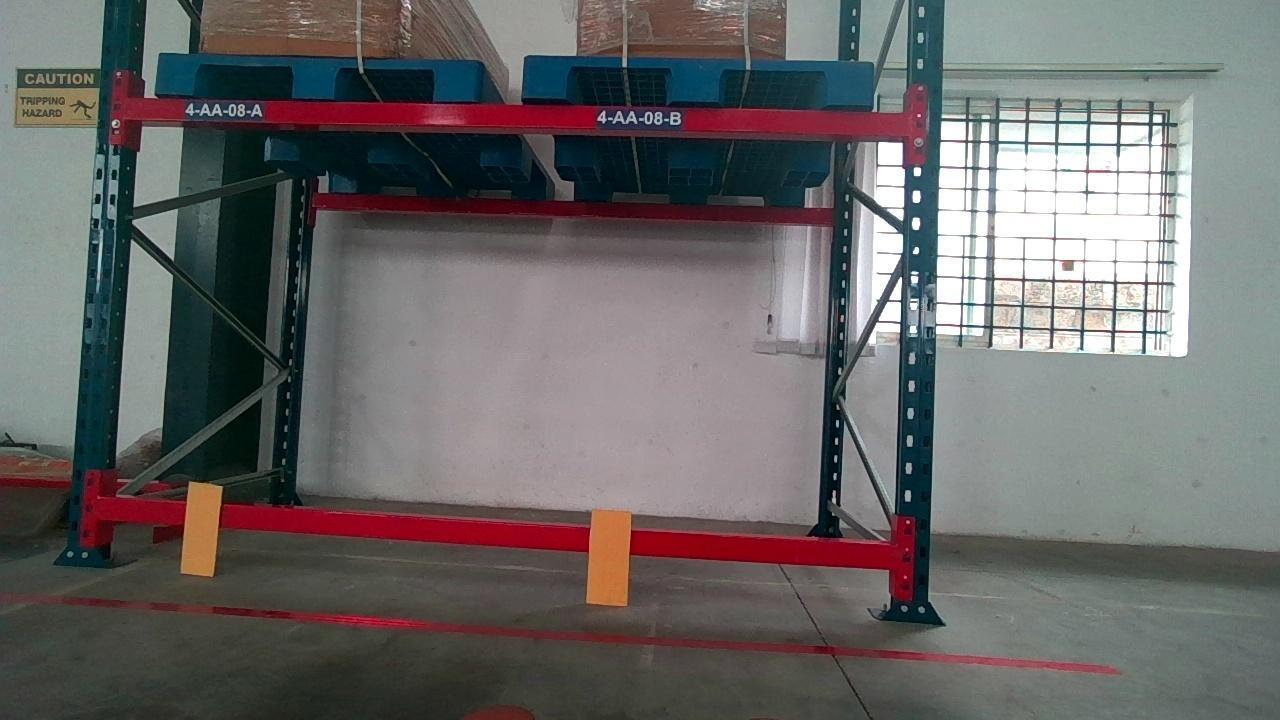h_rack: (98, 498, 900, 570), (123, 93, 922, 137)
orange_strip: (586, 508, 631, 605), (179, 481, 220, 574)
small_pallet: (527, 54, 876, 104), (151, 53, 479, 98)
